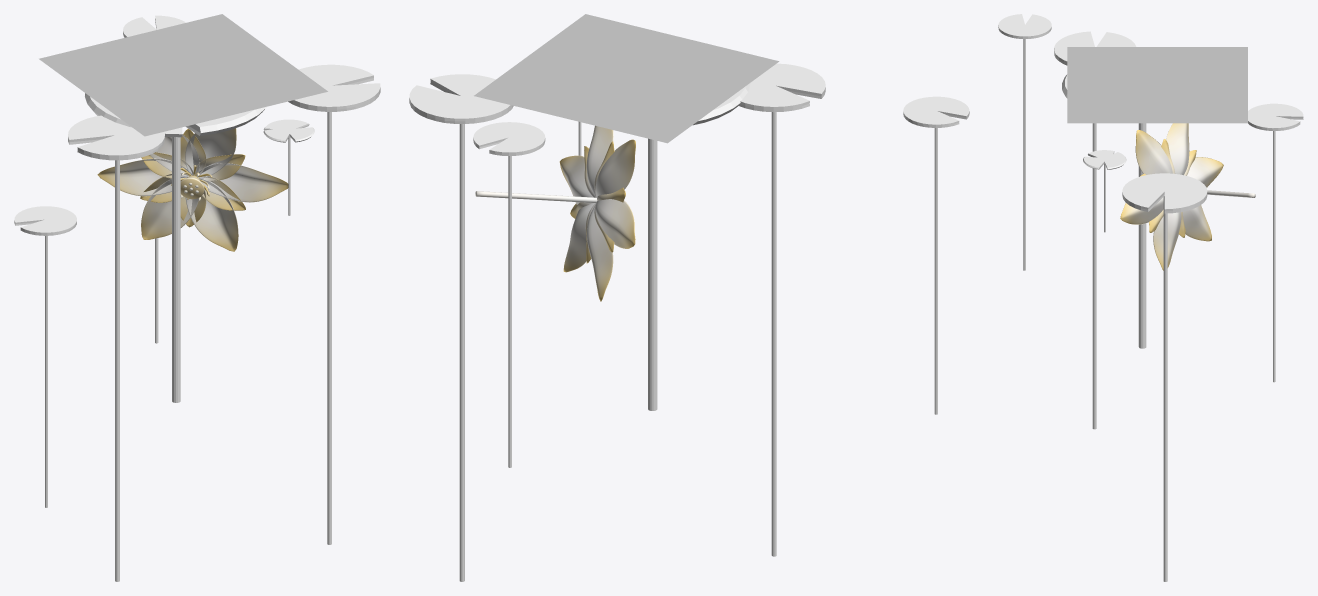
File: Lotus.fbx
3 views of the same model, side by side, from view 1: azimuth 30°, elevation 25°; view 2: azimuth 150°, elevation 25°; view 3: azimuth 270°, elevation 25° (orthographic). The views are drawn at different scales.
Parts seen in each view (by area): view 1: Shadow (1), LilyPad2, LilyPad2 (1), LilyPad, LilyPad2 (2), Plane.030, Plane.031, Plane.001, Plane.032, Plane.029, LilyPad (3), LilyPad2 (3) (+5 smaller); view 2: Shadow (1), LilyPad2, LilyPad2 (1), LilyPad, LilyPad2 (3), LilyPad2 (2), Plane.001, Plane.028, Plane.032, Plane.031, Plane.029, Plane.030 (+1 smaller); view 3: Shadow (1), LilyPad2, LilyPad2 (1), LilyPad2 (3), LilyPad2 (2), LilyPad, Plane.029, Plane.028, Plane.031, LilyPad (3), Plane.032, Plane.001 (+1 smaller).
Boxes of the visible parts, left/top/right/bottom form: Shadow (1): left=39, top=14, right=327, bottom=136; LilyPad2: left=288, top=64, right=380, bottom=544; LilyPad2 (1): left=68, top=115, right=164, bottom=581; LilyPad: left=85, top=93, right=266, bottom=402; LilyPad2 (2): left=14, top=206, right=76, bottom=507; Plane.030: left=198, top=163, right=288, bottom=202; Plane.031: left=185, top=178, right=238, bottom=251; Plane.001: left=97, top=158, right=192, bottom=196; Plane.032: left=141, top=176, right=198, bottom=239; Plane.029: left=185, top=128, right=236, bottom=178; LilyPad (3): left=263, top=119, right=314, bottom=215; LilyPad2 (3): left=123, top=15, right=185, bottom=343; Shadow (1): left=474, top=14, right=779, bottom=143; LilyPad2: left=409, top=74, right=513, bottom=581; LilyPad2 (1): left=738, top=63, right=825, bottom=556; LilyPad: left=648, top=83, right=750, bottom=410; LilyPad2 (3): left=473, top=122, right=545, bottom=467; LilyPad2 (2): left=903, top=96, right=969, bottom=414; Plane.001: left=595, top=199, right=635, bottom=248; Plane.028: left=595, top=139, right=635, bottom=197; Plane.032: left=587, top=203, right=613, bottom=301; Plane.031: left=563, top=203, right=594, bottom=272; Plane.029: left=586, top=125, right=613, bottom=197; Plane.030: left=559, top=155, right=593, bottom=204; Shadow (1): left=1067, top=47, right=1247, bottom=123; LilyPad2: left=1122, top=173, right=1207, bottom=581; LilyPad2 (1): left=1054, top=31, right=1136, bottom=429; LilyPad2 (3): left=1248, top=103, right=1303, bottom=382; LilyPad2 (2): left=998, top=14, right=1051, bottom=270; LilyPad: left=1062, top=74, right=1146, bottom=348; Plane.029: left=1135, top=130, right=1172, bottom=174; Plane.028: left=1166, top=123, right=1189, bottom=175; Plane.031: left=1153, top=212, right=1181, bottom=270; LilyPad (3): left=1083, top=150, right=1126, bottom=232; Plane.032: left=1183, top=205, right=1211, bottom=241; Plane.001: left=1187, top=157, right=1223, bottom=187.
Size of the model in its own units: 8.19 by 9.11 by 5.81.
